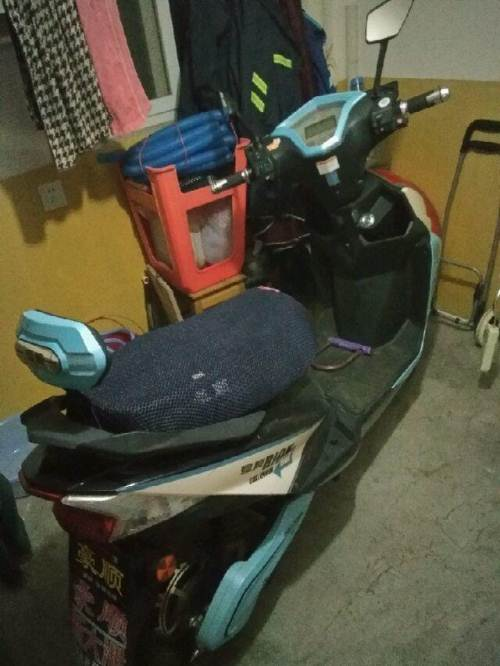电动车: (14, 1, 458, 662)
